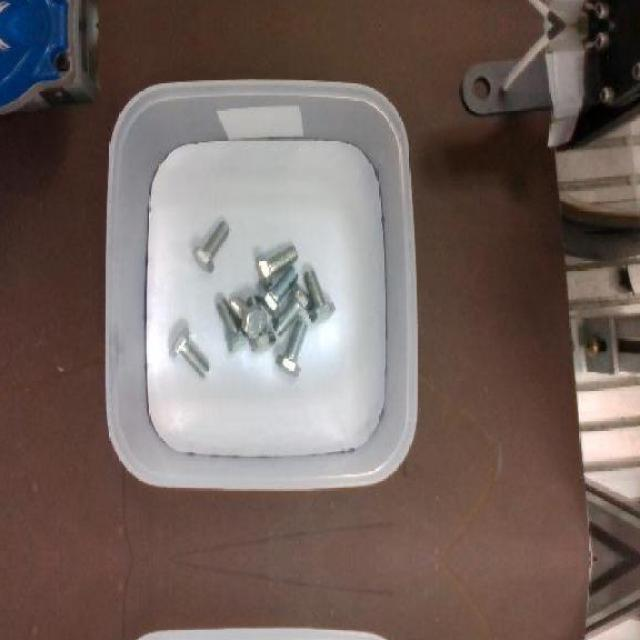screw: (259, 264, 299, 320), (170, 327, 212, 378), (274, 285, 314, 336), (192, 220, 231, 272), (255, 245, 299, 288), (276, 319, 308, 377), (304, 268, 336, 323), (231, 296, 267, 338)
